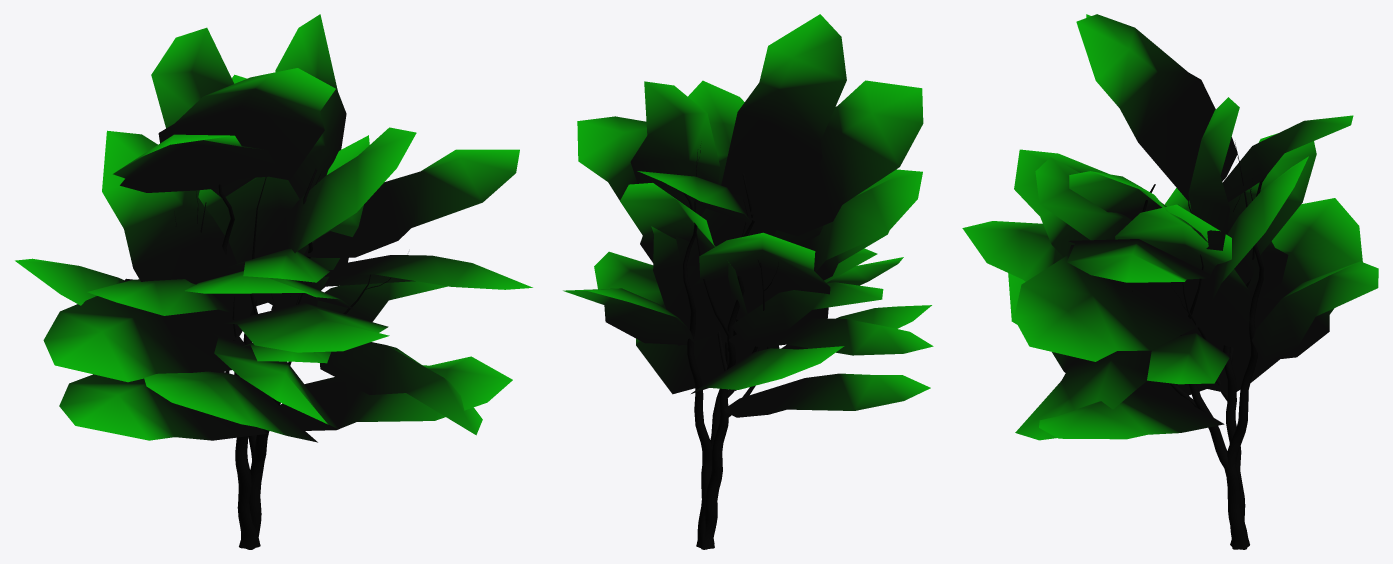
File: SM_Oak_Tree_01.fbx
3 renders of one model, left to right at view 1: azimuth 30°, elevation 25°; view 2: azimuth 150°, elevation 25°; view 3: azimuth 270°, elevation 25°, orthographic. The views are drawn at different scales.
Parts seen in each view (by area): view 1: SM_Oak_Tree_01; view 2: SM_Oak_Tree_01; view 3: SM_Oak_Tree_01.
Boxes of the visible parts, <box> form: SM_Oak_Tree_01: <box>15,14,532,549</box>; SM_Oak_Tree_01: <box>563,14,933,549</box>; SM_Oak_Tree_01: <box>962,14,1378,549</box>.
Size of the model in its own units: 323 by 391 by 292.
